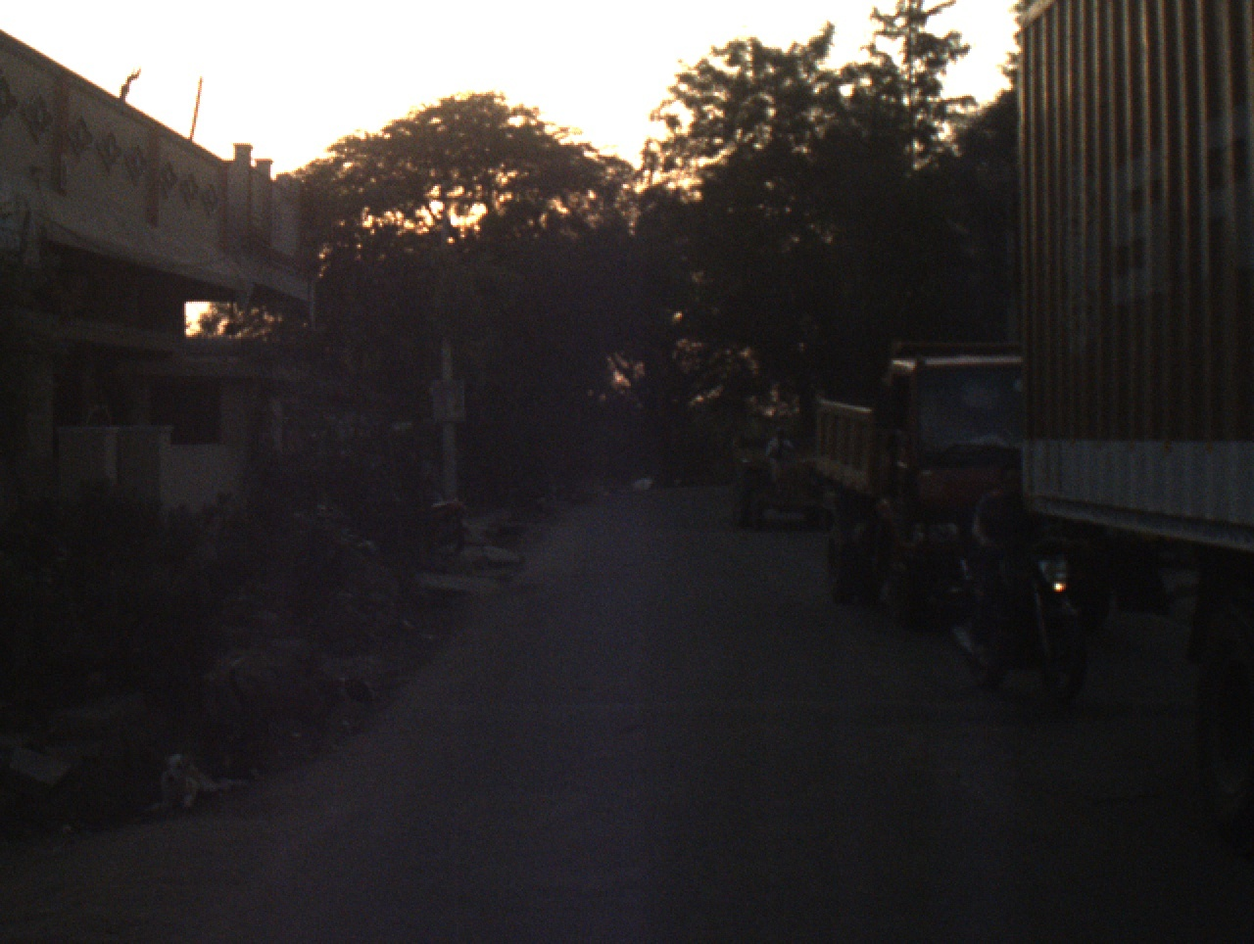motorcycle: (944, 539, 1102, 704), (401, 477, 468, 554)
rider: (968, 459, 1046, 649), (760, 424, 796, 479)
truck: (1011, 1, 1254, 542), (814, 325, 1025, 631)
vehicle fallback: (730, 420, 837, 533)
